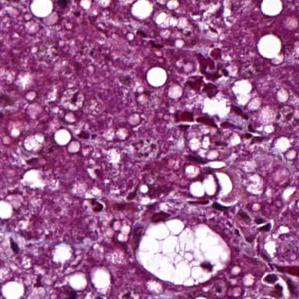ballooning: (134, 218, 232, 288)
